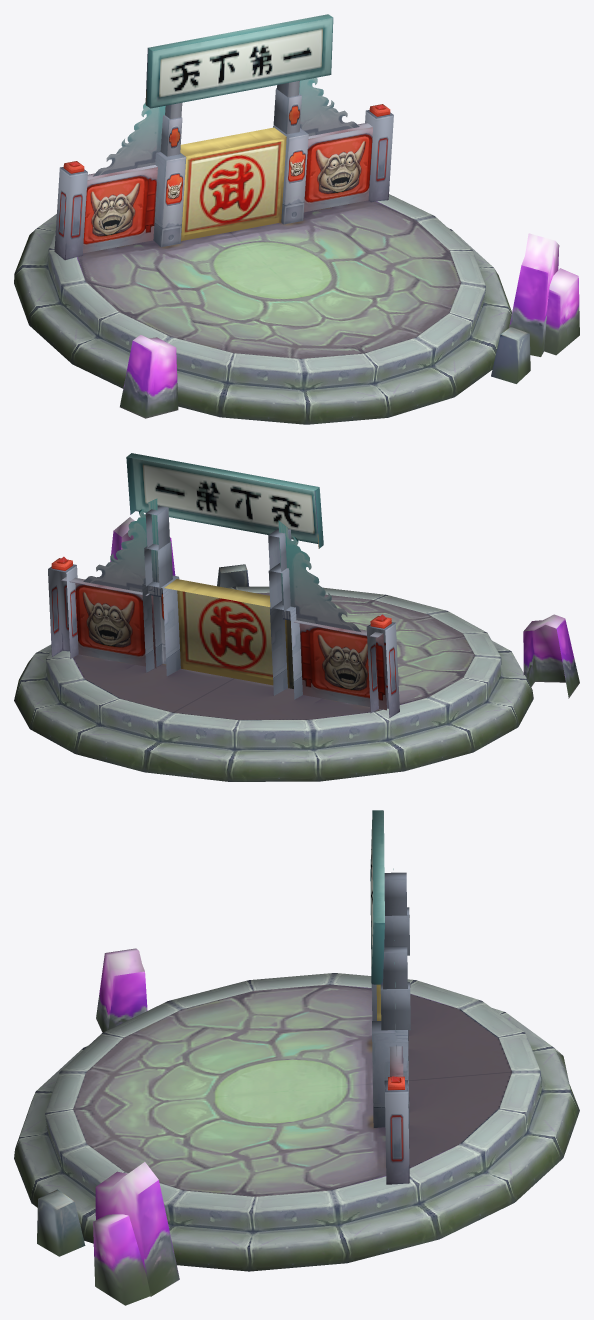
Rendered from PVP.FBX.
3 renders of one model, top to bottom at view 1: azimuth 30°, elevation 25°; view 2: azimuth 150°, elevation 25°; view 3: azimuth 270°, elevation 25°, orthographic. The views are drawn at different scales.
Visible parts, largest first — view 1: Object189; view 2: Object189; view 3: Object189.
Boxes of the visible parts, left/top/right/bottom form: Object189: left=14, top=14, right=579, bottom=424; Object189: left=14, top=453, right=579, bottom=781; Object189: left=14, top=810, right=579, bottom=1305.
Bounding box in the file's own units: 562 × 334 × 534.
1 material, 1 textured.
